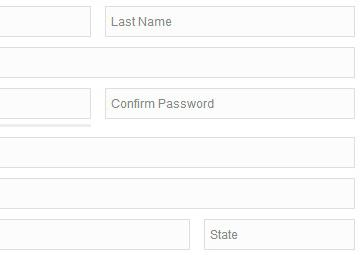field: (104, 5, 355, 37), (104, 88, 356, 119), (203, 219, 356, 250)
